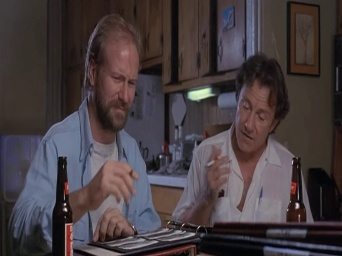smoke: (204, 157, 219, 169), (128, 167, 135, 181)
